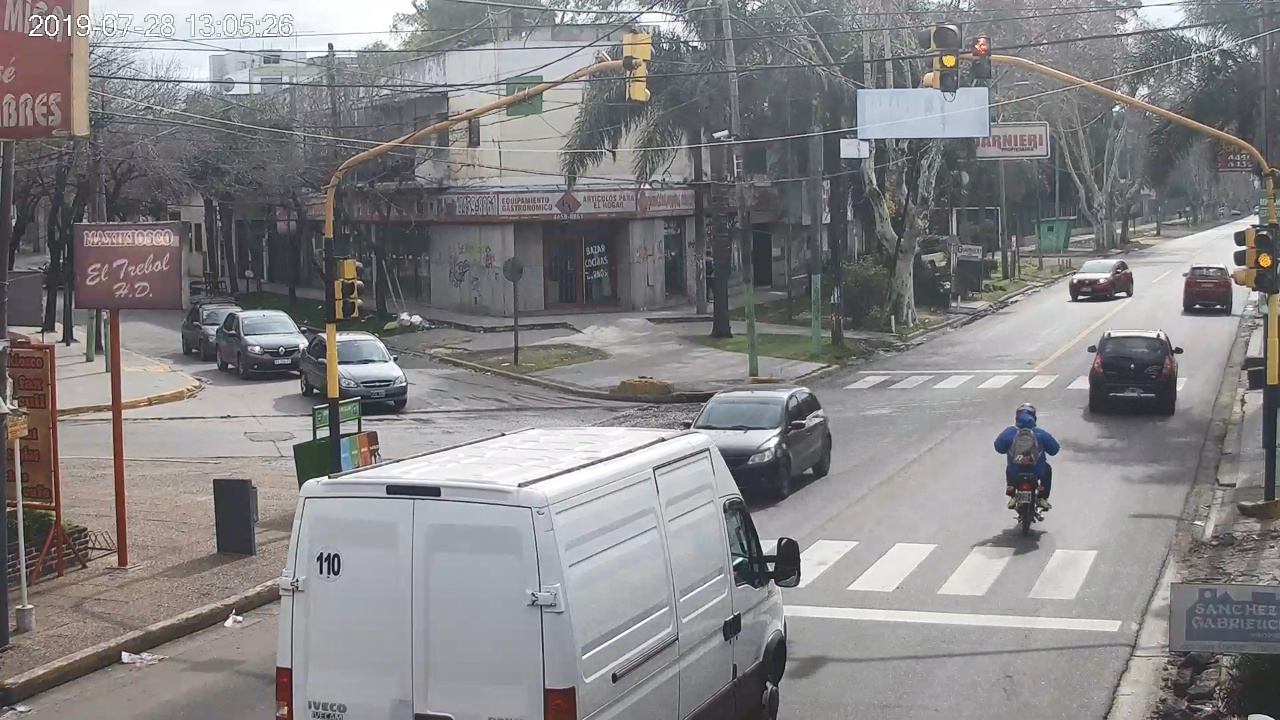car: (275, 428, 799, 720), (1087, 329, 1184, 416), (1182, 263, 1233, 316)
motorcycle: (994, 429, 1060, 534)
traffic light: (940, 25, 958, 92), (1254, 229, 1273, 291)
